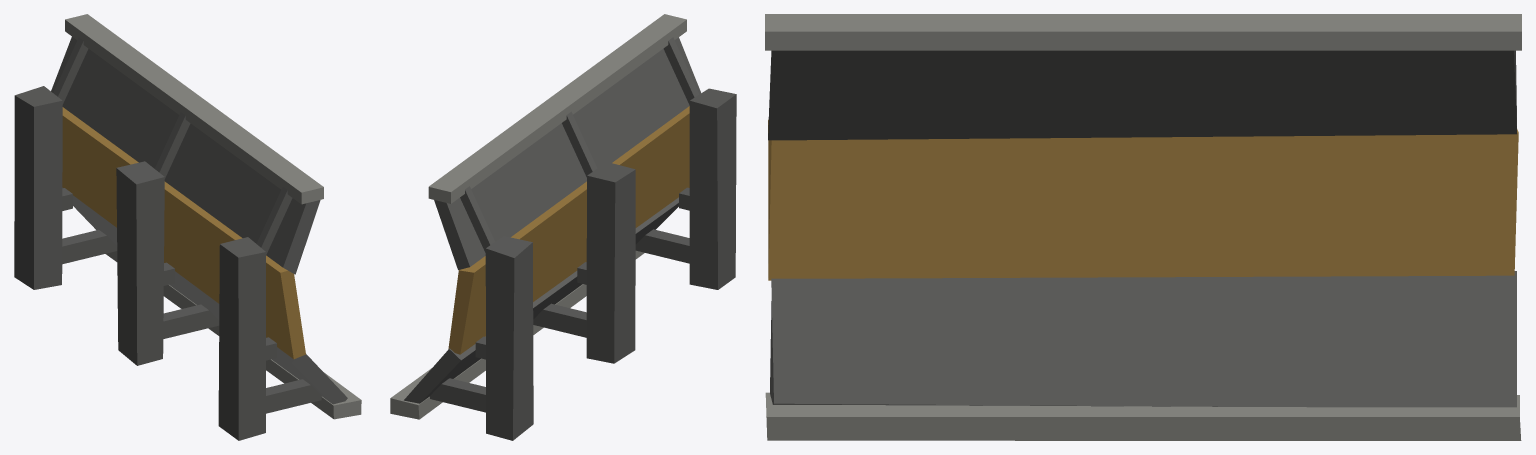
Rendered from arm_plow_ram.glb.
The picture shows the model from 3 angles, left to right: view 1: azimuth 30°, elevation 25°; view 2: azimuth 150°, elevation 25°; view 3: azimuth 270°, elevation 25°; orthographic projection. The views are drawn at different scales.
Visible parts, largest first — view 1: arm_plow_ram; view 2: arm_plow_ram; view 3: arm_plow_ram.
Part boxes in pixels (x1,y1,x2,y2): arm_plow_ram: [14, 14, 361, 440]; arm_plow_ram: [390, 14, 736, 440]; arm_plow_ram: [765, 14, 1521, 440].
Bounding box in the file's own units: 0.4197 × 0.8144 × 1.45.
